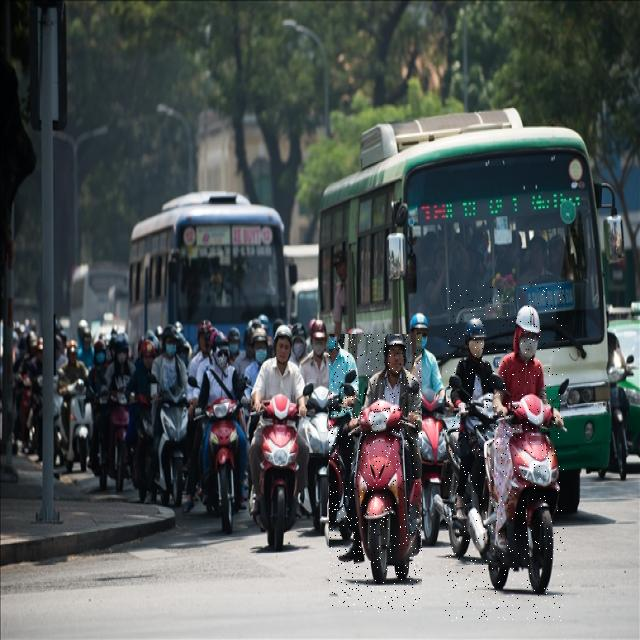With Helmet: (445, 282, 564, 621), (329, 334, 422, 612)
